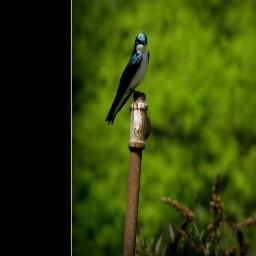Swallow: (105, 31, 150, 128)
